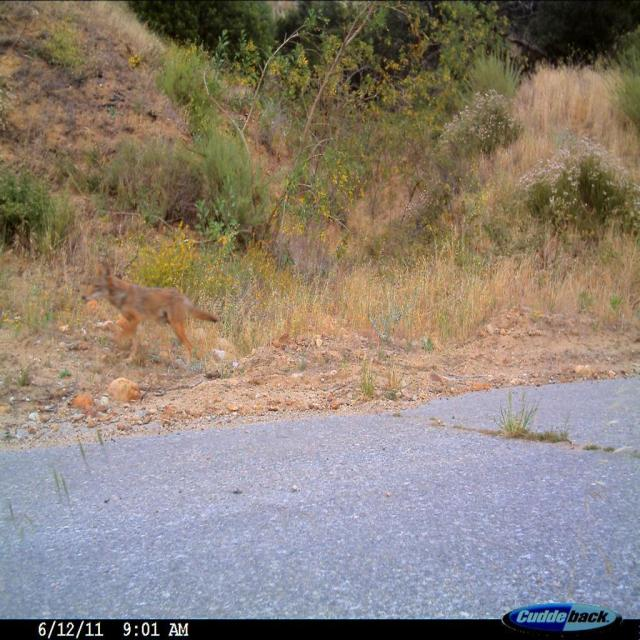coyote: (78, 256, 223, 373)
